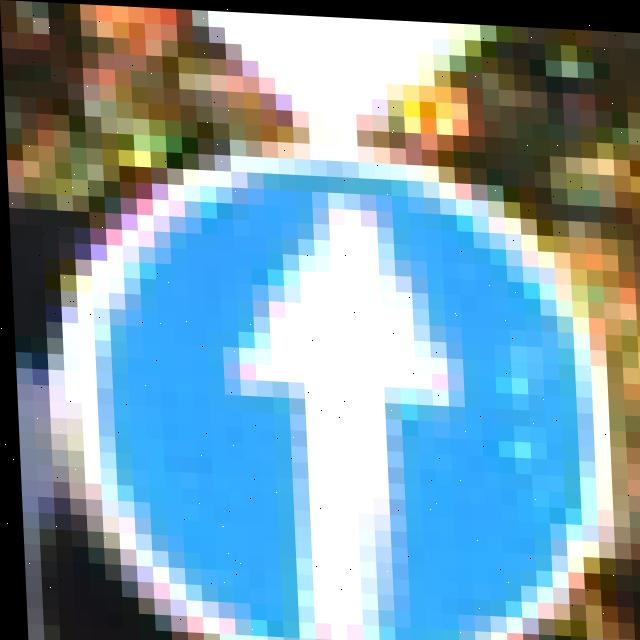compulsory_ahead: (54, 130, 604, 640)
